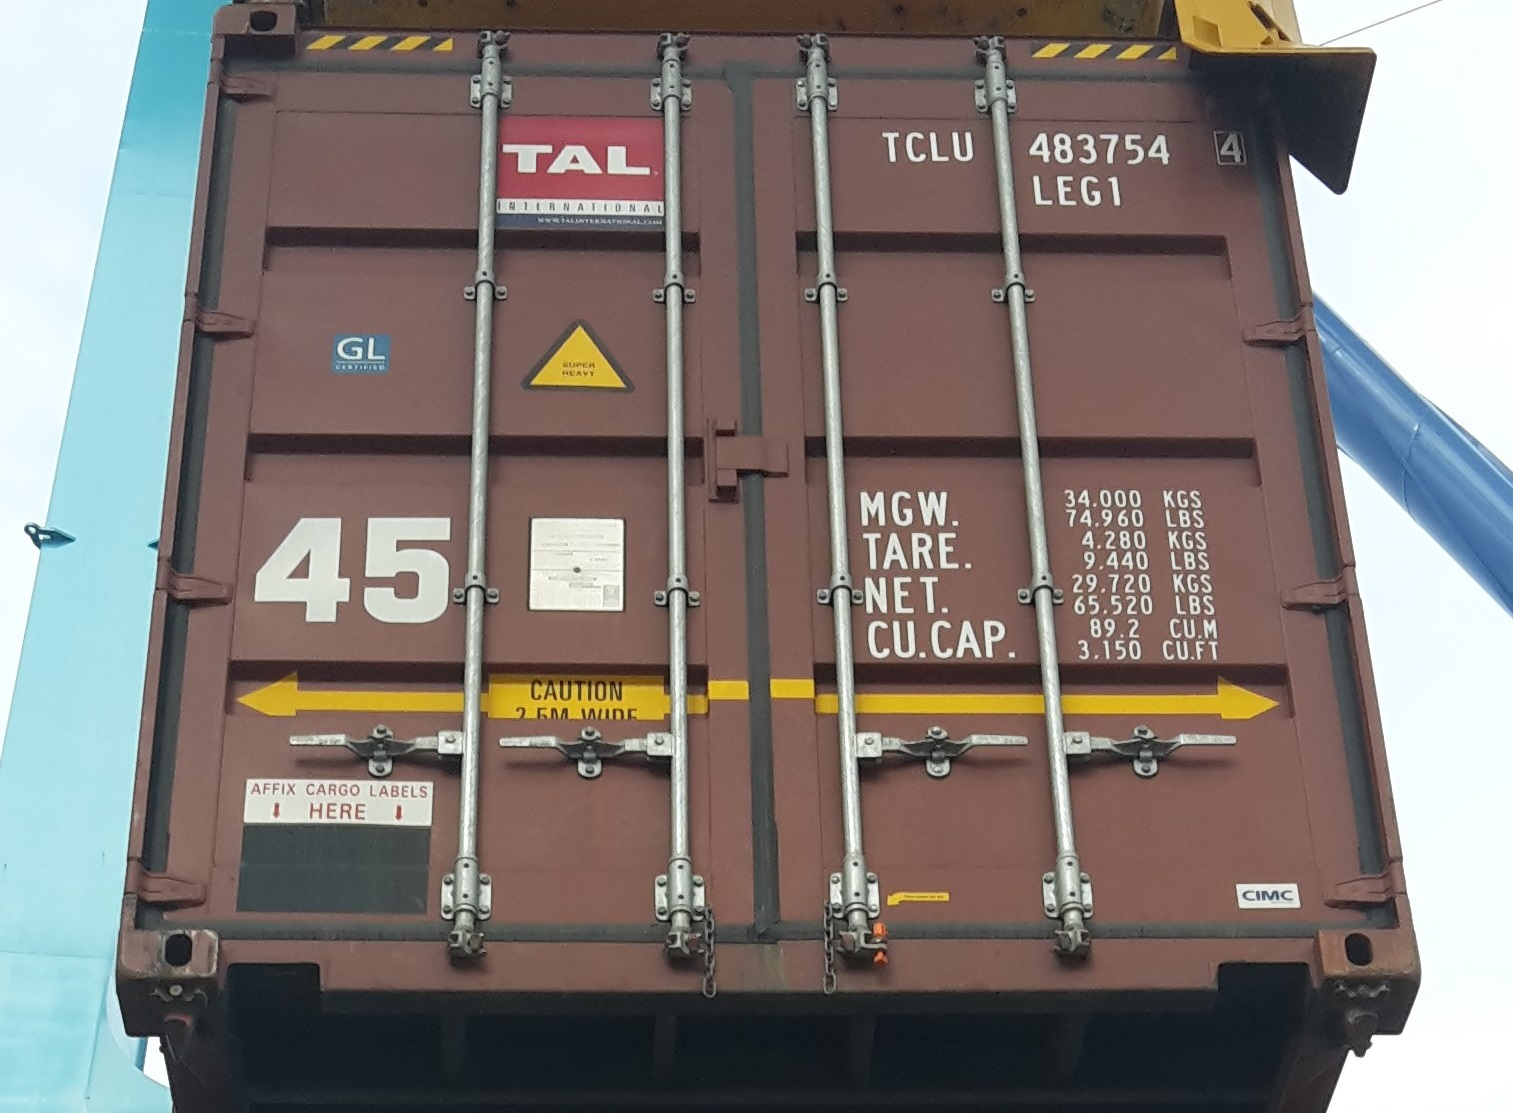container_door: (112, 11, 1425, 984)
